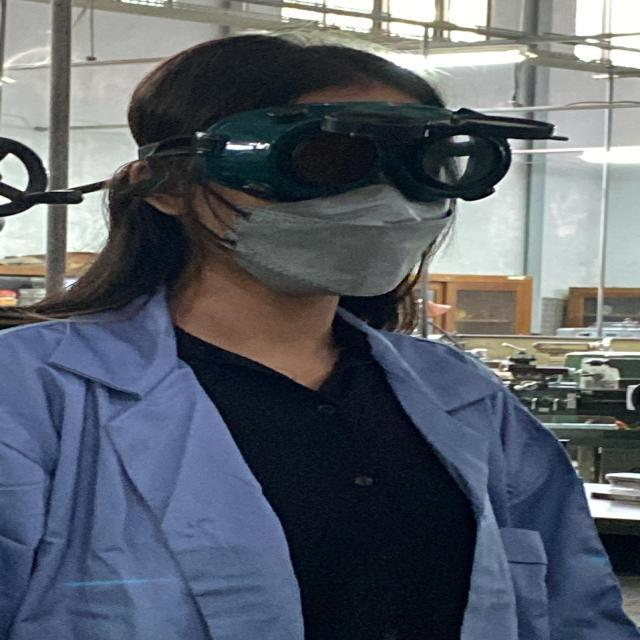glasses: (119, 98, 578, 204)
